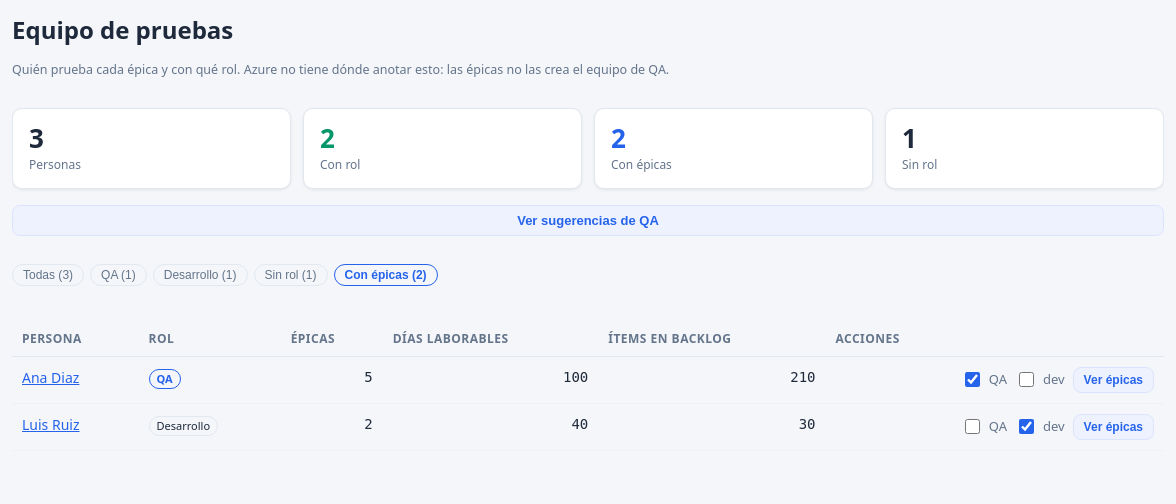
Scenario: la lista de personas › «todas» las deja ver, incluida quien no tiene nada
Expected: the button "Ana Diaz" is shown, [22,367,79,388]
Click the button "Todas (3)": [48, 275] box [12,264,84,286]
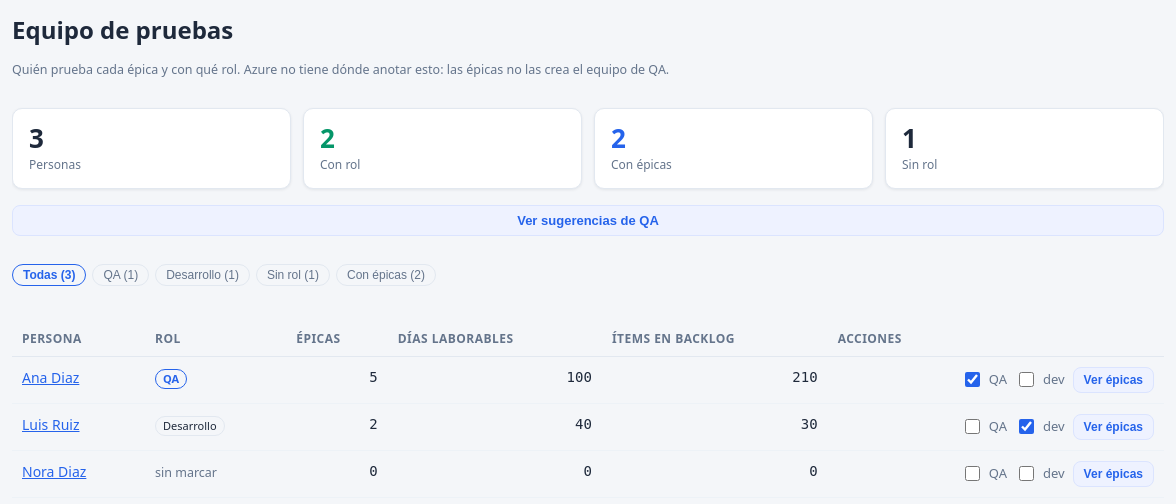
Expected: the button "Nora Diaz" is shown, [22,461,86,482]
